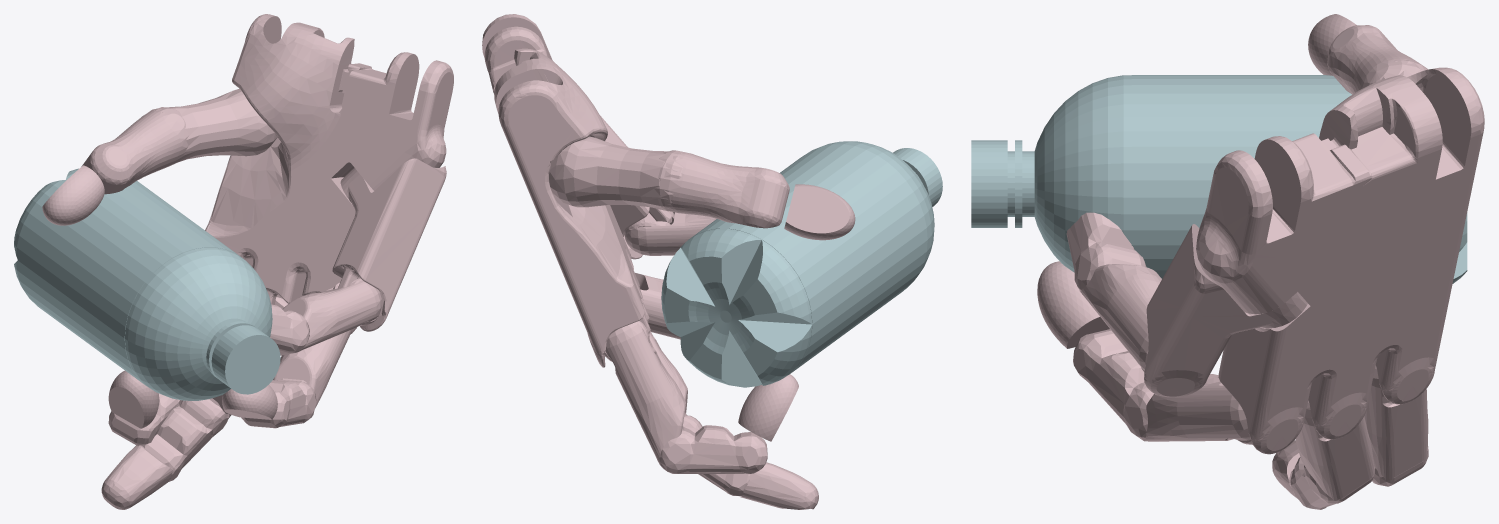
File: grasp_0.glb
3 views of the same model, side by side, from view 1: azimuth 30°, elevation 25°; view 2: azimuth 150°, elevation 25°; view 3: azimuth 270°, elevation 25° (orthographic). The views are drawn at different scales.
Visible parts, largest first — view 1: world; view 2: world; view 3: world.
Part boxes in pixels (<box>): world: <box>14,14,453,509</box>; world: <box>482,14,942,509</box>; world: <box>971,14,1484,509</box>.
Bounding box in the file's own units: 0.1646 × 0.1662 × 0.1413.
